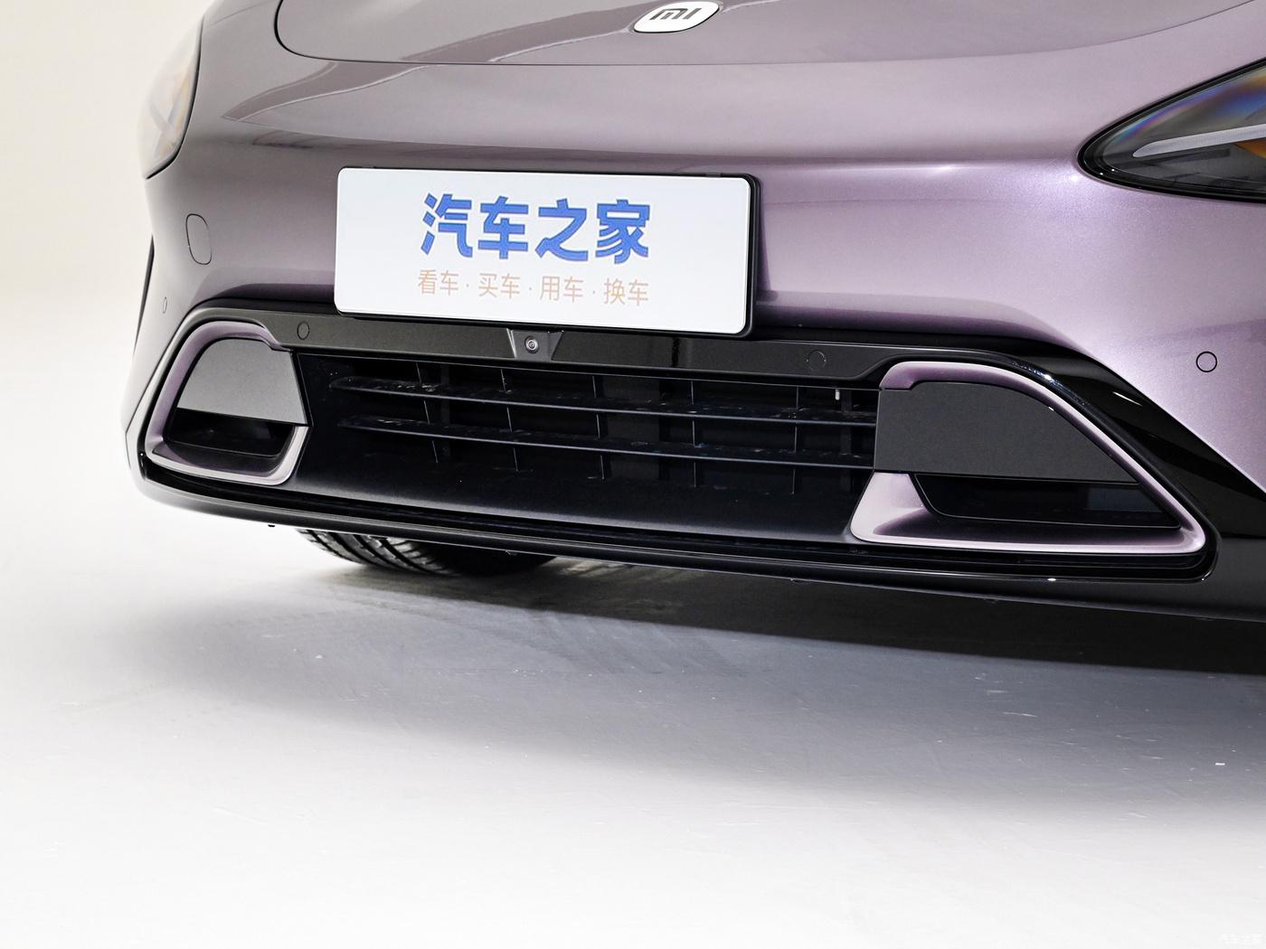XIAOMI: (628, 1, 723, 36)
